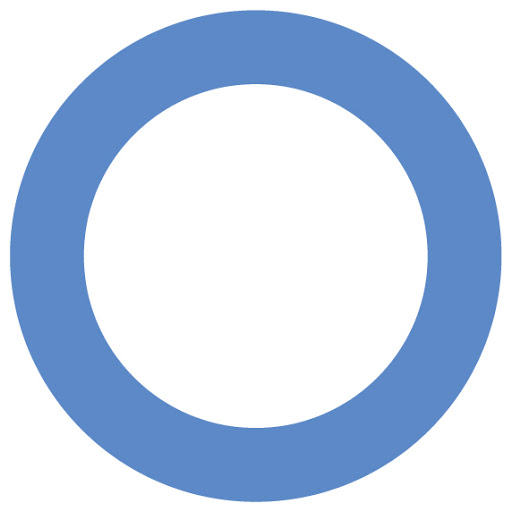circulo: (9, 10, 502, 502)
